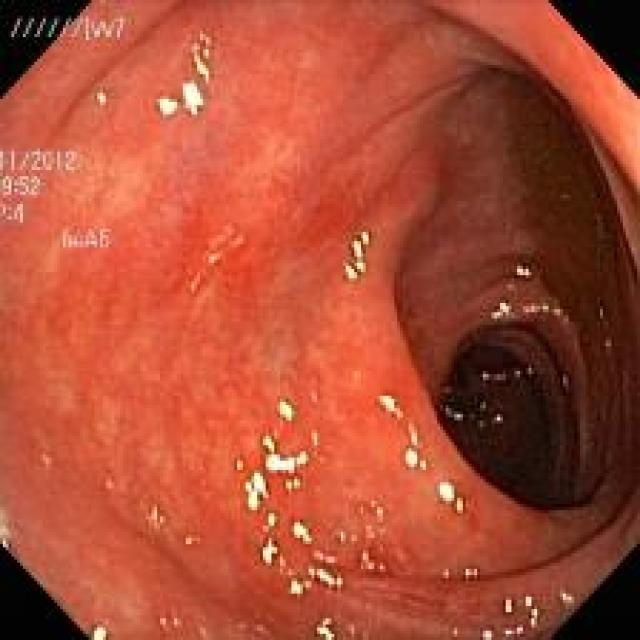ulcerative-colitis-grade-1: (0, 4, 636, 640)
